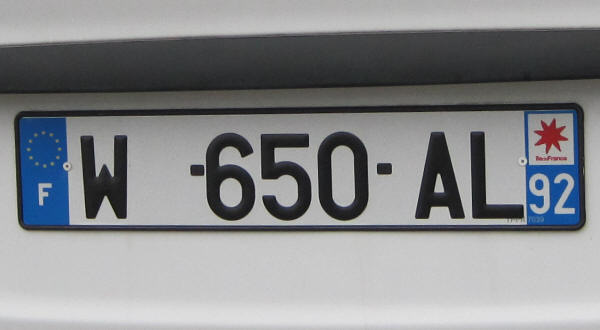license_plate: (13, 102, 586, 232)
